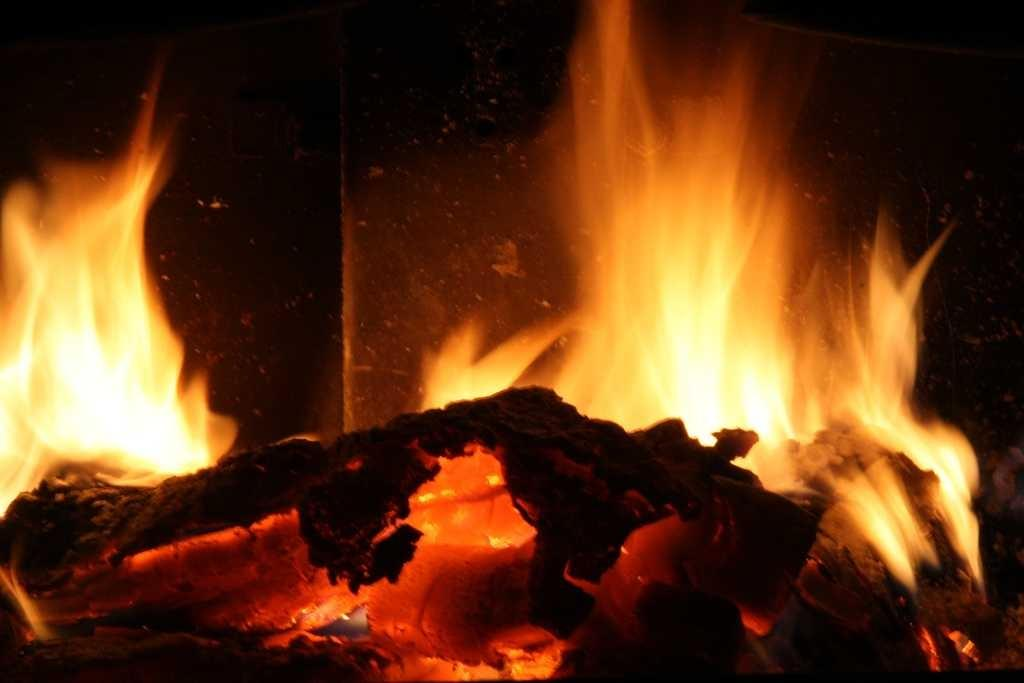fire: (585, 153, 903, 427), (10, 185, 190, 477)
